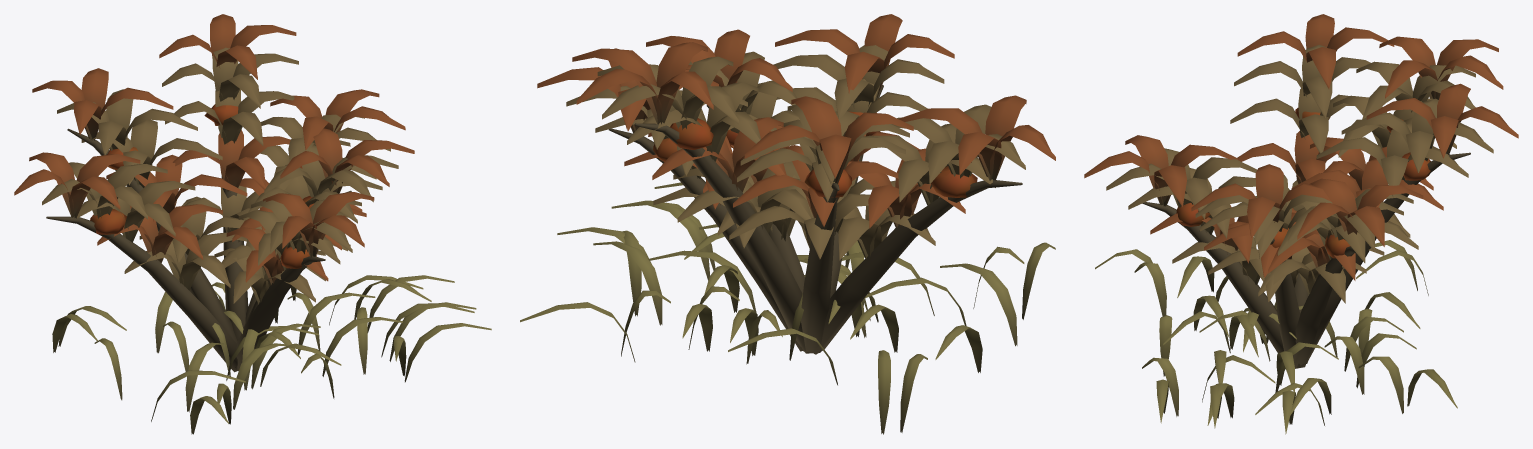
File: red-brush.glb
The picture shows the model from 3 angles, left to right: view 1: azimuth 30°, elevation 25°; view 2: azimuth 150°, elevation 25°; view 3: azimuth 270°, elevation 25°; orthographic projection. The views are drawn at different scales.
Visible parts, largest first — view 1: LAND03 red-brush; view 2: LAND03 red-brush; view 3: LAND03 red-brush.
Part boxes in pixels (x1=…): LAND03 red-brush: x1=14, y1=14, x2=491, y2=434; LAND03 red-brush: x1=520, y1=14, x2=1055, y2=434; LAND03 red-brush: x1=1084, y1=14, x2=1518, y2=434.
Size of the model in its own units: 1.58 by 0.9704 by 1.31.
